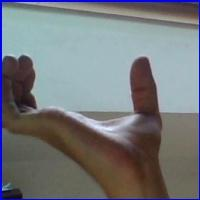B: (3, 42, 178, 178)
